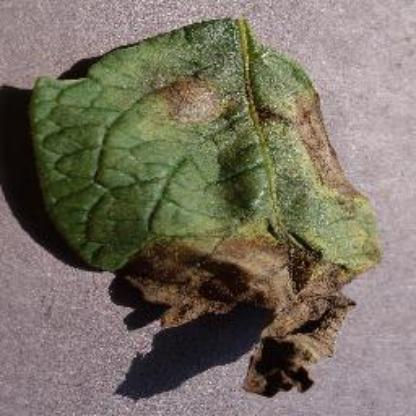Late-Blight: (15, 13, 403, 409)
